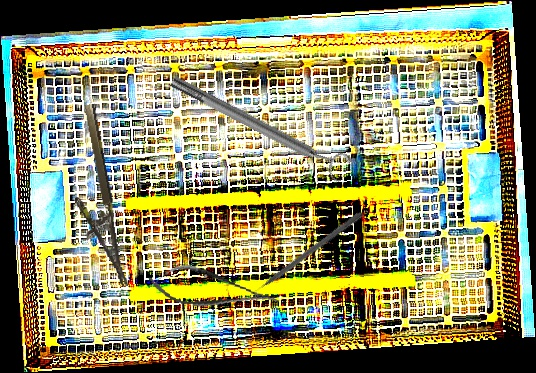Fixation Ring: (166, 66, 353, 185)
Micro Scissor: (145, 258, 283, 322)
Needle Holder: (59, 103, 129, 292)
Pusher: (243, 209, 365, 301)
